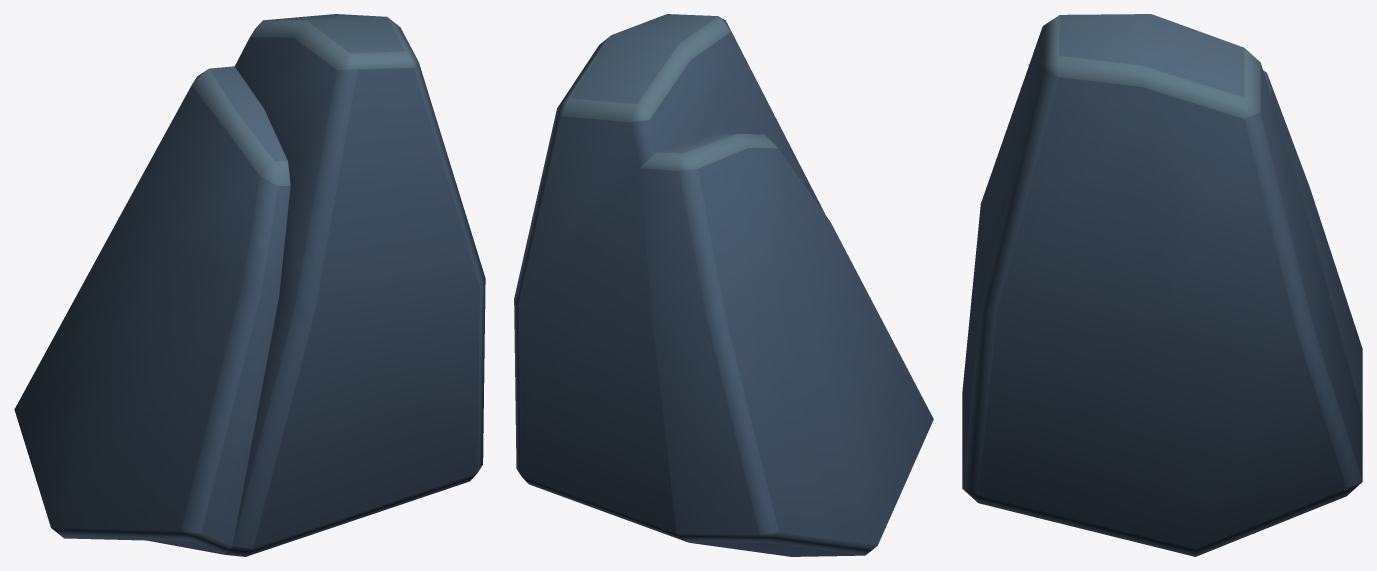
The model's file is rock_011.fbx.
3 views of the same model, side by side, from view 1: azimuth 30°, elevation 25°; view 2: azimuth 150°, elevation 25°; view 3: azimuth 270°, elevation 25° (orthographic). The views are drawn at different scales.
Visible parts, largest first — view 1: rock_011; view 2: rock_011; view 3: rock_011.
Boxes of the visible parts, x1,y1,x2,y2 form: rock_011: (14, 14, 485, 556); rock_011: (514, 14, 933, 556); rock_011: (962, 14, 1362, 556).
Bounding box in the file's own units: 135 × 181 × 124.
1 material, 1 textured.
